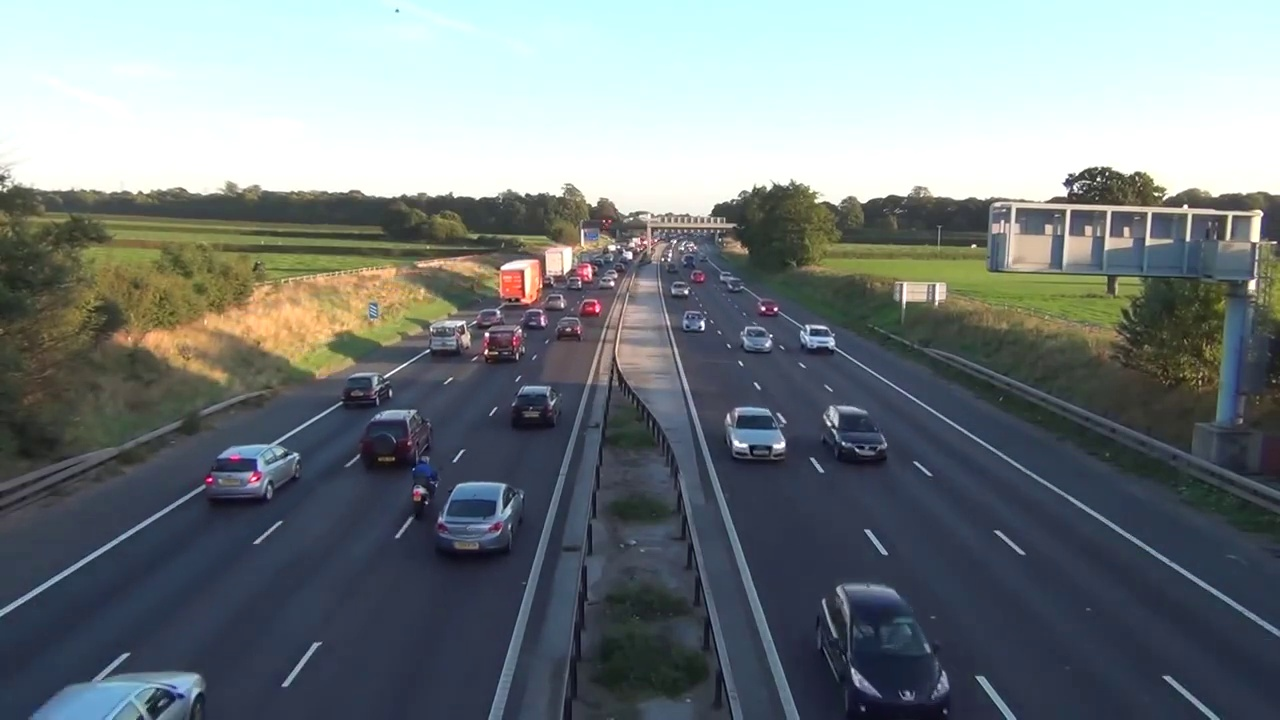bus: (805, 571, 973, 713), (25, 665, 207, 720), (436, 476, 520, 551), (205, 442, 293, 497), (821, 400, 890, 465), (360, 409, 437, 466), (719, 404, 784, 463), (509, 387, 564, 428), (341, 376, 388, 407), (798, 320, 839, 353), (739, 324, 774, 355), (554, 316, 582, 340), (682, 311, 708, 336), (521, 309, 547, 331), (578, 298, 603, 319), (756, 298, 780, 318), (545, 293, 567, 313), (475, 309, 502, 325), (669, 280, 691, 298), (727, 276, 744, 295), (599, 277, 616, 291), (567, 276, 582, 291), (690, 270, 706, 284), (543, 275, 555, 289), (604, 269, 618, 281), (720, 270, 731, 284), (612, 262, 624, 273), (665, 263, 677, 274), (591, 265, 600, 277), (594, 258, 604, 267)
car: (500, 258, 543, 309), (544, 246, 573, 283)
jeep: (405, 457, 435, 521)
lorry: (484, 327, 528, 361), (427, 321, 468, 354), (572, 257, 578, 272)
minibus: (574, 264, 594, 285), (682, 254, 696, 269)
